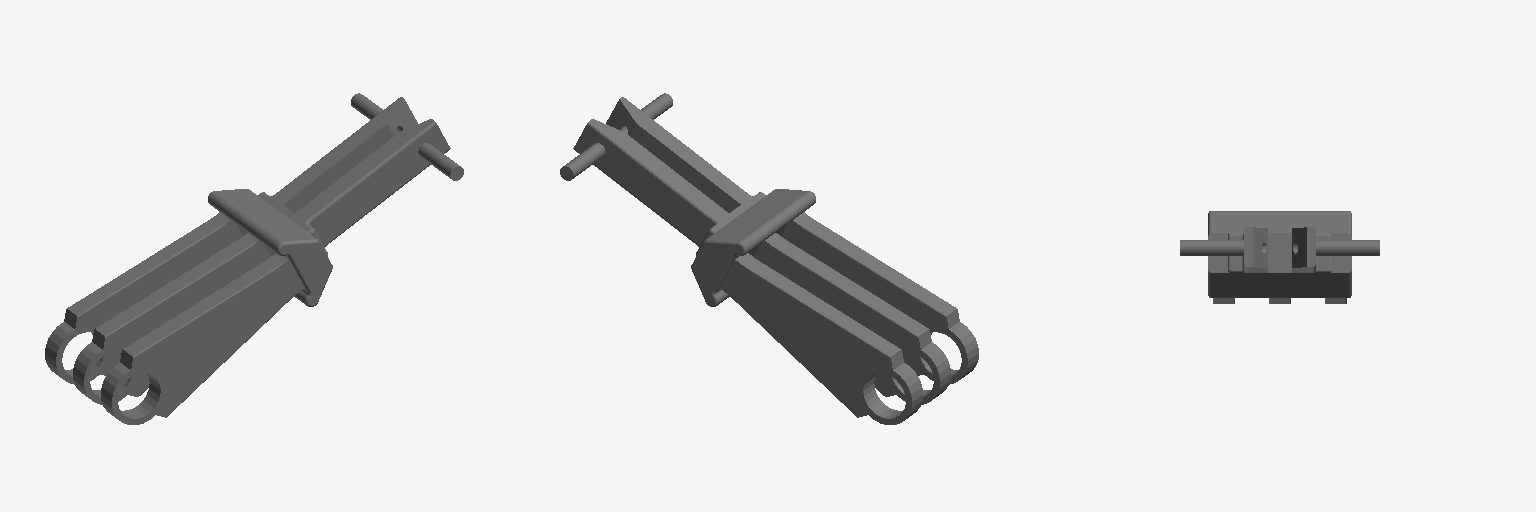
The model's file is Handle.obj.
3 renders of one model, left to right at view 1: azimuth 30°, elevation 25°; view 2: azimuth 150°, elevation 25°; view 3: azimuth 270°, elevation 25°, orthographic.
Parts seen in each view (by area): view 1: ThrottleHandle; view 2: ThrottleHandle; view 3: ThrottleHandle.
Part boxes in pixels (x1,y1,x2,y2): ThrottleHandle: (45, 93, 463, 424); ThrottleHandle: (560, 93, 978, 424); ThrottleHandle: (1180, 211, 1379, 303).
Size of the model in its own units: 0.2573 by 0.1491 by 0.125.